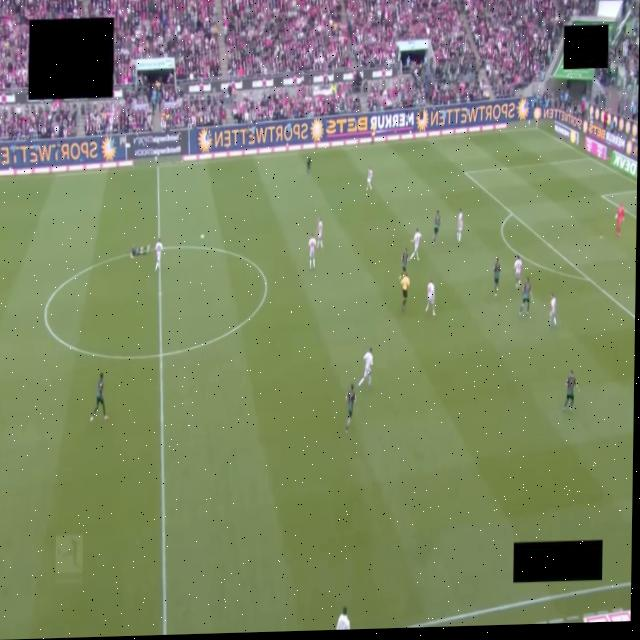ball: (200, 234, 203, 238)
player: (90, 373, 108, 420), (563, 370, 578, 410), (357, 349, 373, 386), (345, 384, 356, 433), (519, 277, 530, 315), (409, 228, 420, 260), (308, 234, 317, 270), (425, 280, 434, 315), (615, 204, 624, 237), (493, 258, 500, 296), (432, 211, 440, 244), (130, 245, 149, 258), (549, 293, 556, 327), (514, 256, 521, 288), (154, 239, 161, 270), (400, 248, 407, 279), (456, 210, 462, 242), (316, 218, 322, 248), (366, 168, 371, 190), (306, 157, 311, 174)
referee: (400, 271, 409, 311)
